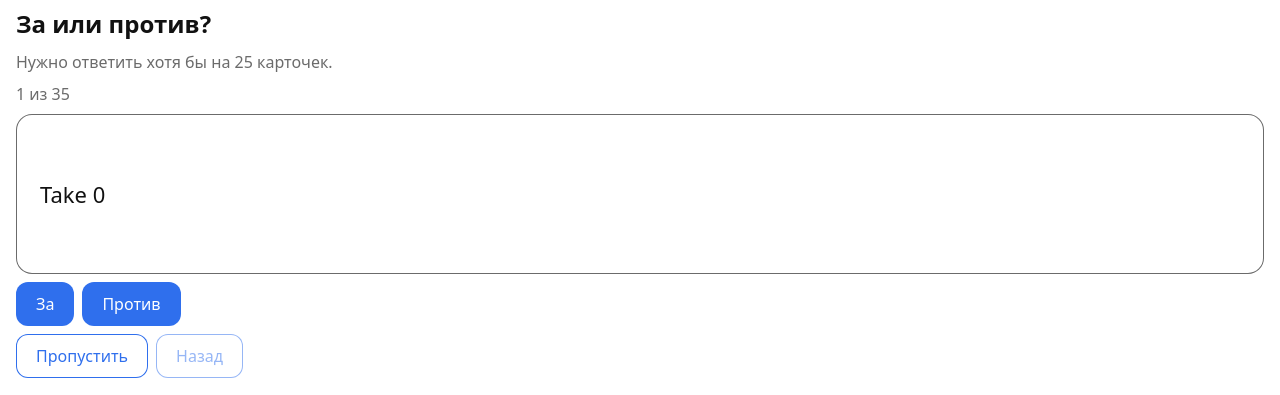
Test: <Deck> › "Back" returns to the previous card so its answer can be changed
This screenshot has width=1280, height=395.
expect the text "Take 0" is shown: met, box [16,114,1264,274]
expect the button "Назад" is disabled: met, box [156,334,243,378]
Click the button "За": (45, 304) [16,282,74,326]
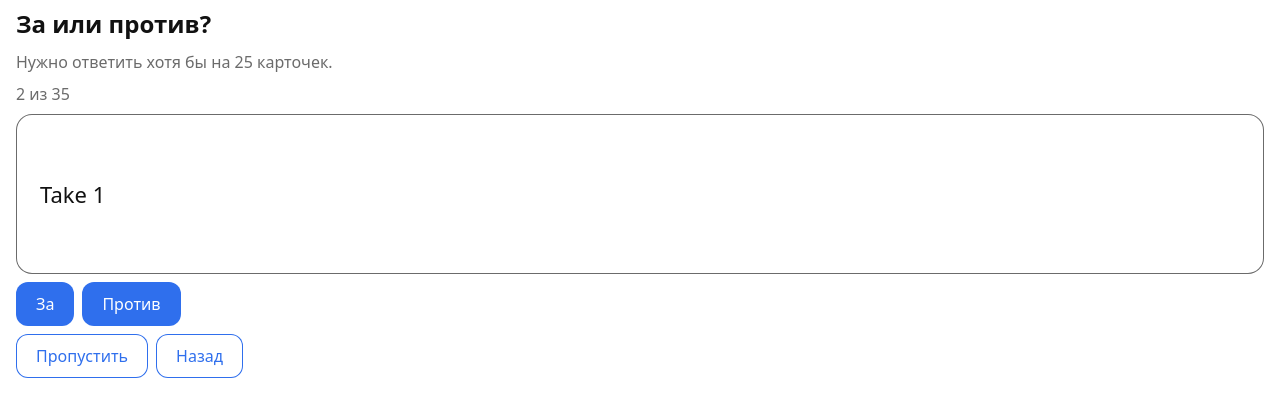
Click the button "Назад": (200, 356) [156,334,243,378]
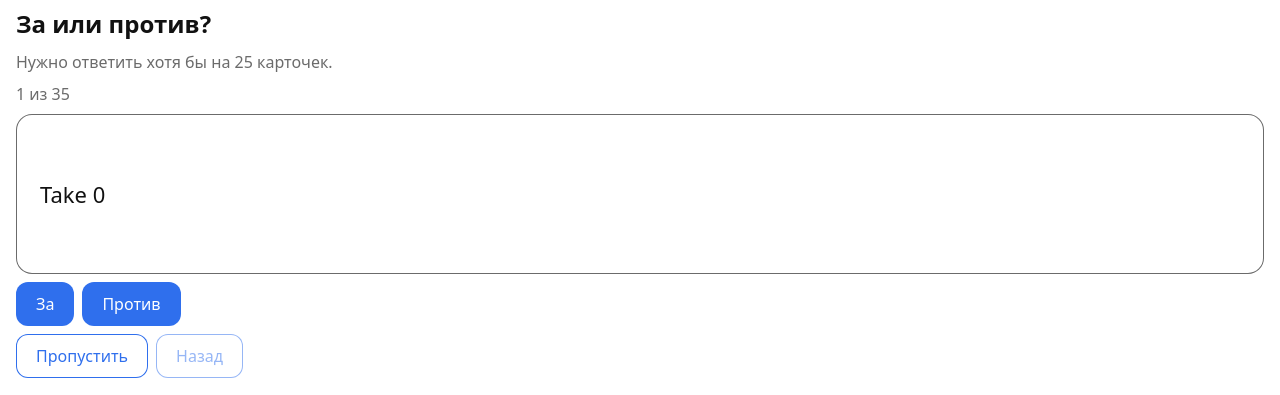
expect the button "За" is enabled: met, box [16,282,74,326]
expect the text "Take 0" is shown: met, box [16,114,1264,274]
Click the button "Против": (132, 304) [82,282,181,326]
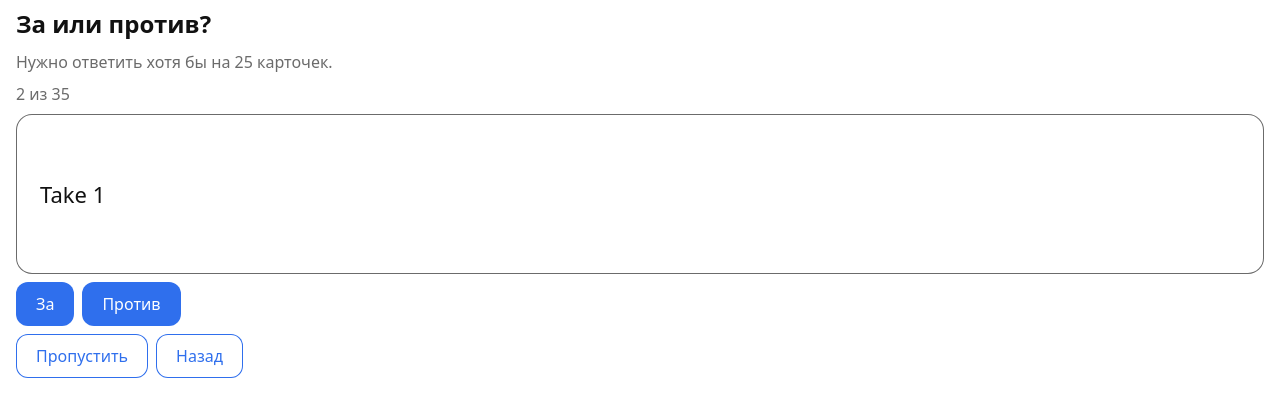
expect the button "За" is enabled: met, box [16,282,74,326]
expect the text "Take 1" is shown: met, box [16,114,1264,274]
